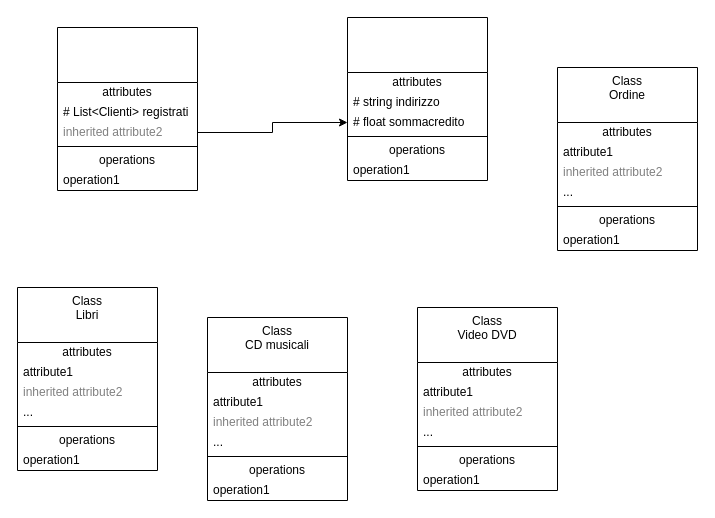
This 715x518 diagram has some shape labels left out. Each missing label, with the box of its shape:
Class Clienti: (346, 16, 488, 180)
Class Libreria: (56, 26, 198, 190)
